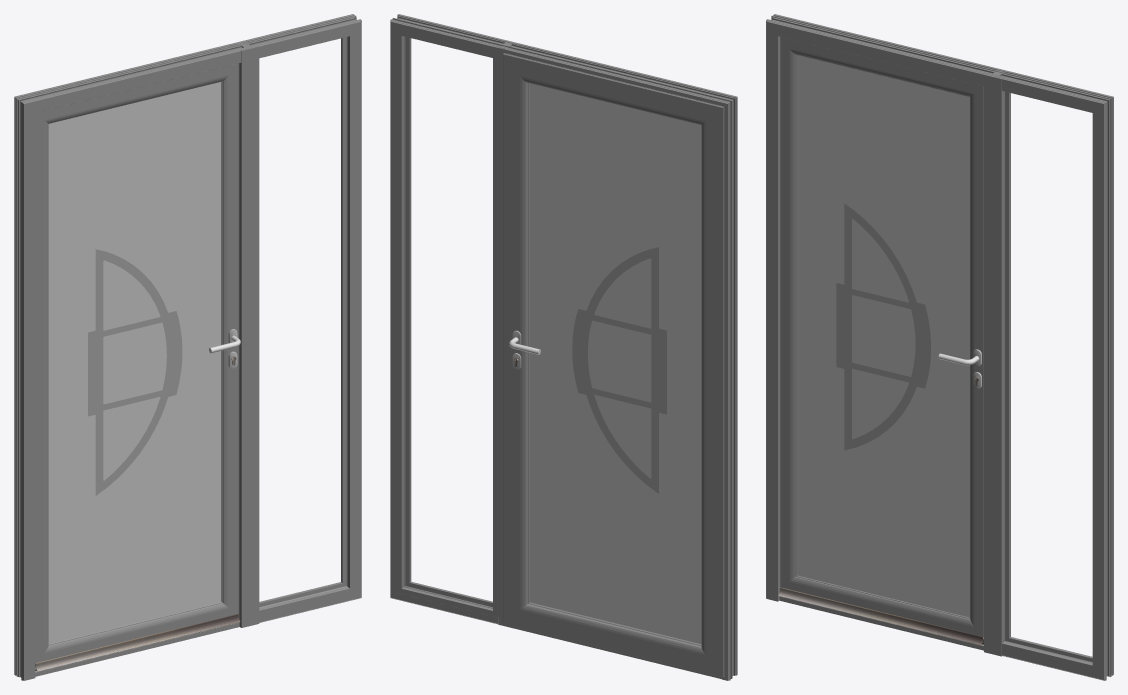
3 renders of one model, left to right at view 1: azimuth 30°, elevation 25°; view 2: azimuth 150°, elevation 25°; view 3: azimuth 330°, elevation 25°, orthographic.
Visible parts, largest first — view 1: fosco_4, aroFixo, aroMovel, montanteCentral, transparente_4, bite, borracha, escovas, rodaPe; view 2: fosco_4, aroMovel, aroFixo, bite, transparente_4, montanteCentral, borracha, rodaPe; view 3: fosco_4, aroFixo, aroMovel, montanteCentral, transparente_4, bite, escovas, borracha, rodaPe.
Part boxes in pixels (x1,y1,x2,y2): fosco_4: [48, 82, 221, 643]; aroFixo: [14, 14, 361, 680]; aroMovel: [35, 63, 238, 663]; montanteCentral: [238, 42, 259, 627]; transparente_4: [88, 249, 182, 495]; bite: [259, 37, 346, 607]; borracha: [259, 37, 345, 606]; escovas: [35, 614, 240, 671]; rodaPe: [35, 622, 239, 676]; fosco_4: [529, 83, 701, 644]; aroMovel: [503, 53, 724, 677]; aroFixo: [390, 14, 737, 680]; bite: [396, 29, 498, 617]; transparente_4: [572, 247, 666, 493]; montanteCentral: [498, 40, 518, 626]; borracha: [404, 36, 492, 608]; rodaPe: [505, 624, 721, 679]; fosco_4: [797, 55, 969, 617]; aroFixo: [766, 14, 1113, 680]; aroMovel: [780, 37, 983, 638]; montanteCentral: [984, 70, 1004, 656]; transparente_4: [836, 203, 930, 450]; bite: [1005, 91, 1092, 661]; escovas: [778, 587, 983, 645]; borracha: [1006, 92, 1092, 660]; rodaPe: [779, 596, 983, 650].
Size of the model in its own units: 1320 by 2149 by 185.
Materials: 10 (4 with a texture image).
